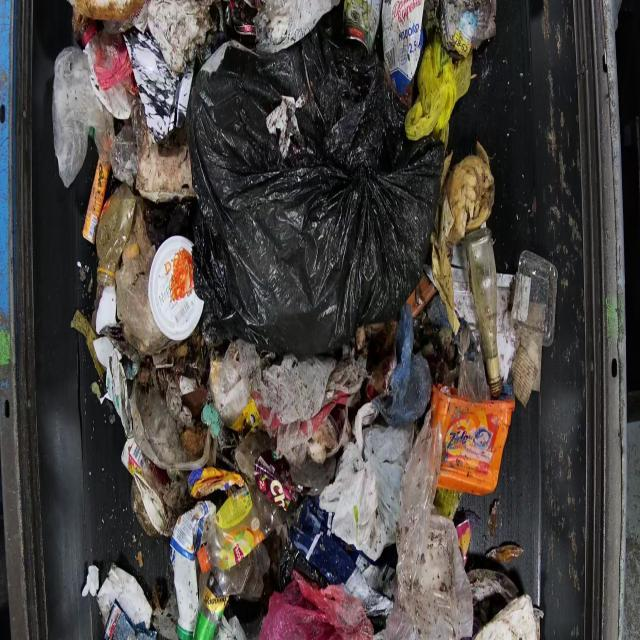cups: (146, 234, 205, 341)
other-trash: (52, 0, 557, 638)
